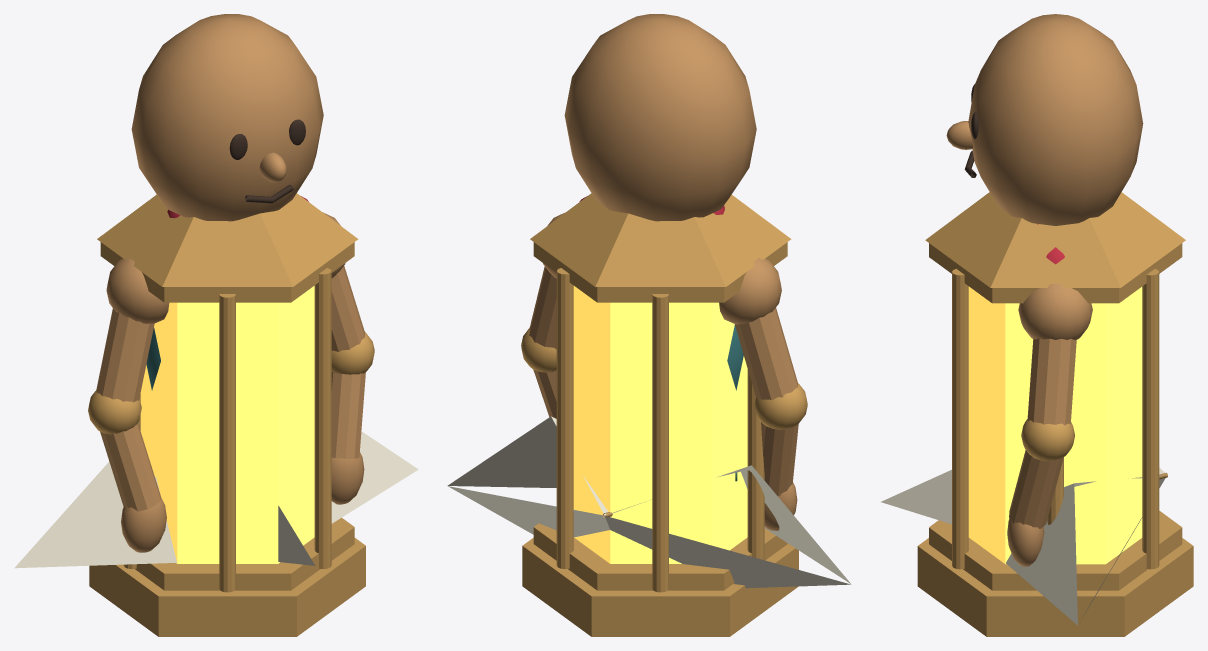
File: world40-story-props-v1.glb
3 renders of one model, left to right at view 1: azimuth 30°, elevation 25°; view 2: azimuth 150°, elevation 25°; view 3: azimuth 270°, elevation 25°, orthographic.
Visible parts, largest first — view 1: theatre-prop-stage-figure - Puppet warm maple, theatre-prop-moon-lantern - Story antique brass, theatre-prop-moon-lantern - Lantern warm light, theatre-prop-sky-bird - Folded warm ivory paper, theatre-prop-stage-figure - Story antique brass, theatre-prop-stage-figure - Dark joint and eye; view 2: theatre-prop-moon-lantern - Story antique brass, theatre-prop-stage-figure - Puppet warm maple, theatre-prop-moon-lantern - Lantern warm light, theatre-prop-sky-bird - Folded warm ivory paper, theatre-prop-stage-figure - Story antique brass, theatre-prop-stage-figure - Puppet deep teal waistcoat; view 3: theatre-prop-moon-lantern - Story antique brass, theatre-prop-stage-figure - Puppet warm maple, theatre-prop-moon-lantern - Lantern warm light, theatre-prop-sky-bird - Folded warm ivory paper, theatre-prop-stage-figure - Story antique brass.
Boxes of the visible parts, box(x1,y1,x2,y2) form: theatre-prop-stage-figure - Puppet warm maple: box(96, 14, 365, 552); theatre-prop-moon-lantern - Story antique brass: box(89, 193, 365, 636); theatre-prop-moon-lantern - Lantern warm light: box(140, 286, 314, 563); theatre-prop-sky-bird - Folded warm ivory paper: box(14, 431, 418, 568); theatre-prop-stage-figure - Story antique brass: box(88, 332, 374, 434); theatre-prop-stage-figure - Dark joint and eye: box(229, 119, 305, 203); theatre-prop-moon-lantern - Story antique brass: box(522, 193, 798, 636); theatre-prop-stage-figure - Puppet warm maple: box(529, 14, 798, 530); theatre-prop-moon-lantern - Lantern warm light: box(573, 286, 747, 563); theatre-prop-sky-bird - Folded warm ivory paper: box(447, 416, 851, 588); theatre-prop-stage-figure - Story antique brass: box(521, 328, 807, 429); theatre-prop-stage-figure - Puppet deep teal waistcoat: box(727, 325, 743, 390); theatre-prop-moon-lantern - Story antique brass: box(917, 192, 1193, 636); theatre-prop-stage-figure - Puppet warm maple: box(946, 14, 1143, 566); theatre-prop-moon-lantern - Lantern warm light: box(968, 286, 1142, 564); theatre-prop-sky-bird - Folded warm ivory paper: box(881, 467, 1165, 625); theatre-prop-stage-figure - Story antique brass: box(1021, 419, 1074, 461).
Bounding box in the file's own units: 2.5 × 3.34 × 1.68.
